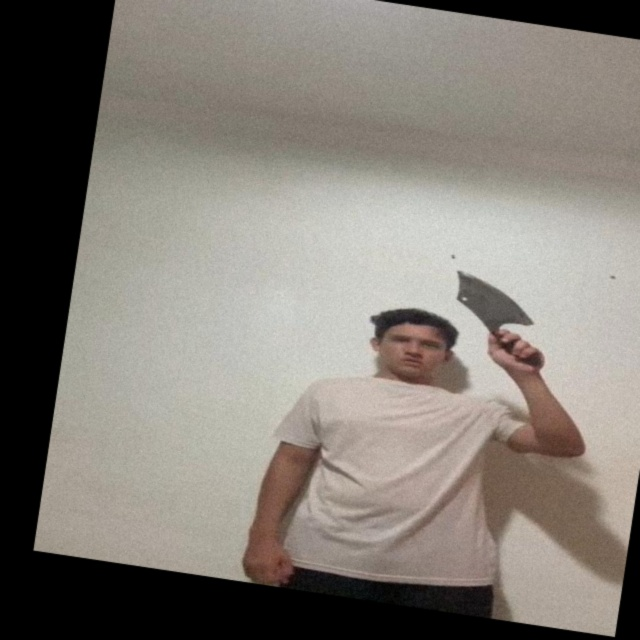Sharp-Object: (449, 268, 538, 328)
